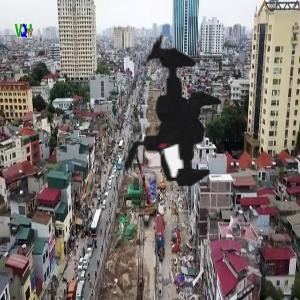drone: (50, 3, 278, 231)
